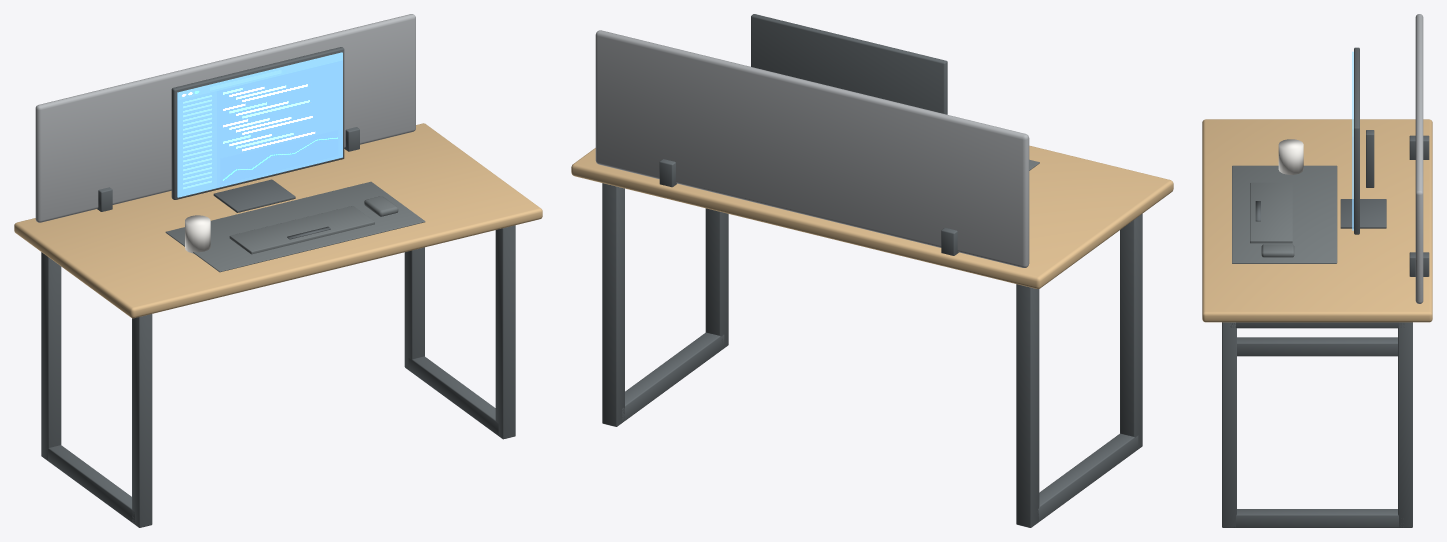
File: workstation.desk-single.glb
3 views of the same model, side by side, from view 1: azimuth 30°, elevation 25°; view 2: azimuth 150°, elevation 25°; view 3: azimuth 270°, elevation 25° (orthographic). The views are drawn at different scales.
Visible parts, largest first — view 1: workstation.desk-single; view 2: workstation.desk-single; view 3: workstation.desk-single.
Part boxes in pixels (x1=…): workstation.desk-single: x1=14, y1=14, x2=542, y2=527; workstation.desk-single: x1=571, y1=14, x2=1173, y2=527; workstation.desk-single: x1=1202, y1=14, x2=1432, y2=527.
Size of the model in its own units: 1.4 by 1.18 by 0.7.
6 materials, 1 textured.
